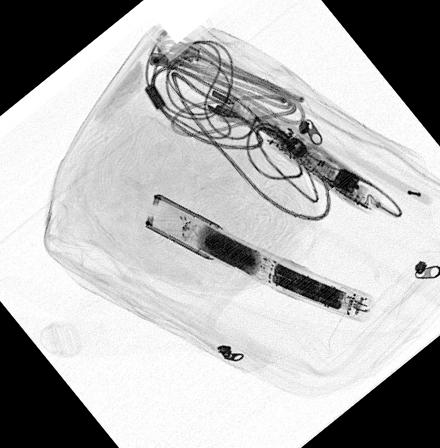Baton: (139, 188, 375, 325), (201, 83, 383, 220)
